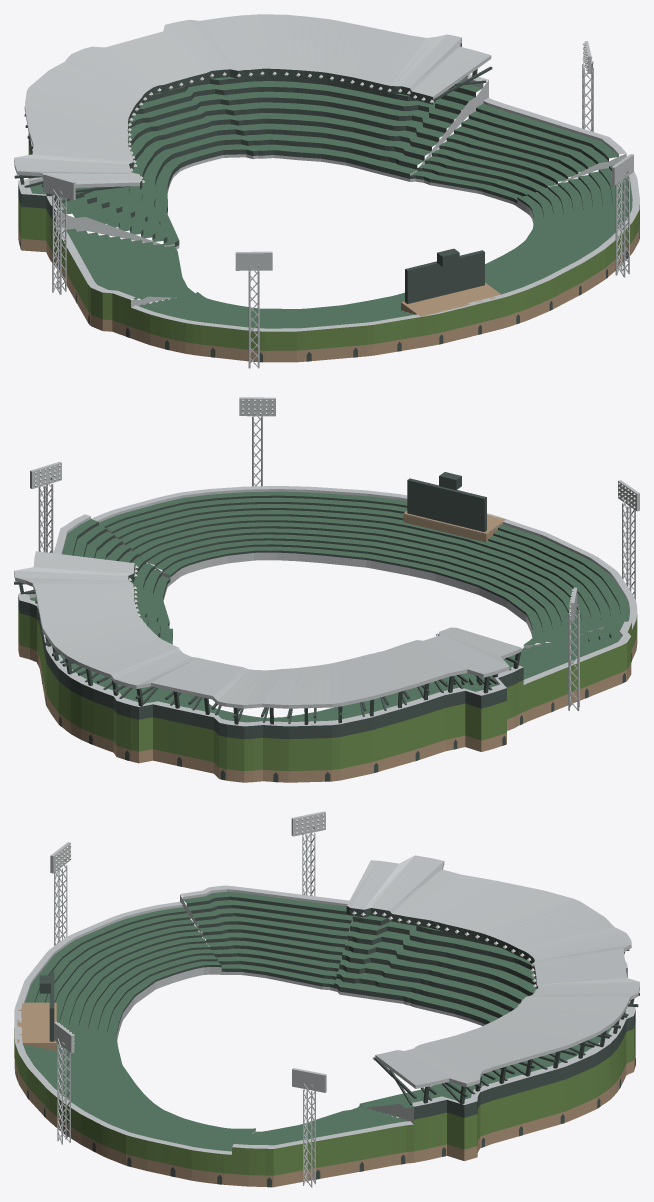
The model's file is nishinomiya-koshien.detail.glb.
The picture shows the model from 3 angles, top to bottom: view 1: azimuth 30°, elevation 25°; view 2: azimuth 150°, elevation 25°; view 3: azimuth 270°, elevation 25°; orthographic projection.
Parts seen in each view (by area): view 1: Hanshin Koshien Stadium; view 2: Hanshin Koshien Stadium; view 3: Hanshin Koshien Stadium.
Boxes of the visible parts, x1,y1,x2,y2 form: Hanshin Koshien Stadium: (14,14,639,368); Hanshin Koshien Stadium: (14,397,639,782); Hanshin Koshien Stadium: (14,811,639,1187).
Size of the model in its own units: 223 by 44.6 by 223.
